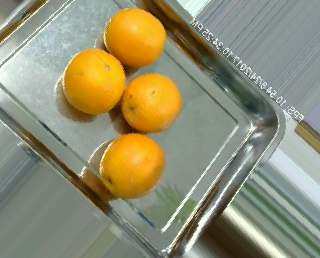Orange: (99, 133, 165, 198), (62, 47, 126, 114), (103, 7, 165, 70), (122, 73, 181, 131)
